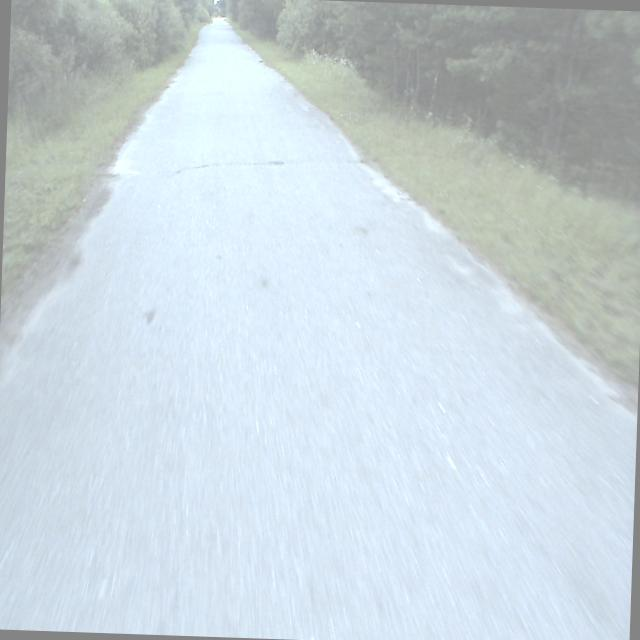road: (0, 19, 636, 640)
